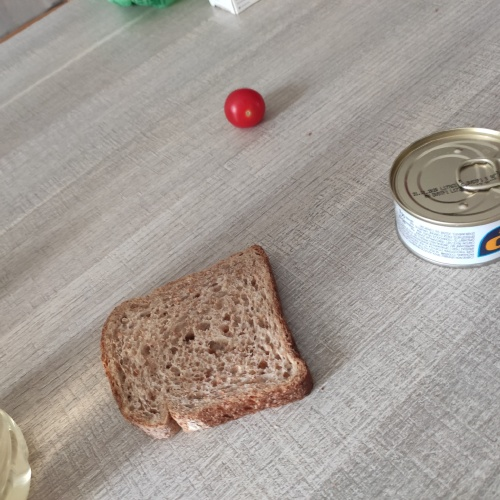pane: (98, 243, 318, 441)
pomodoro: (214, 82, 271, 133)
tonno: (382, 120, 494, 272)
